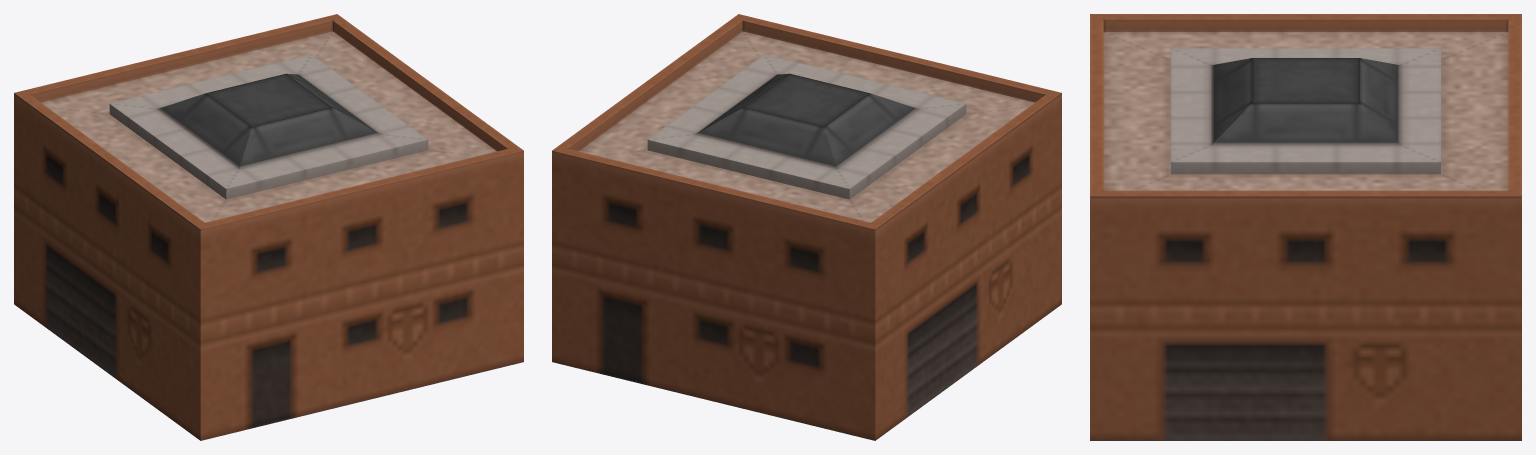
The model's file is buildingA.fbx.
3 views of the same model, side by side, from view 1: azimuth 30°, elevation 25°; view 2: azimuth 150°, elevation 25°; view 3: azimuth 270°, elevation 25° (orthographic). The views are drawn at different scales.
Visible parts, largest first — view 1: polySurface1; view 2: polySurface1; view 3: polySurface1.
Part boxes in pixels (x1=…): polySurface1: x1=14, y1=14, x2=523, y2=440; polySurface1: x1=552, y1=14, x2=1061, y2=440; polySurface1: x1=1090, y1=14, x2=1521, y2=440.
Bounding box in the file's own units: 4 × 2.75 × 4.
1 material, 1 textured.
